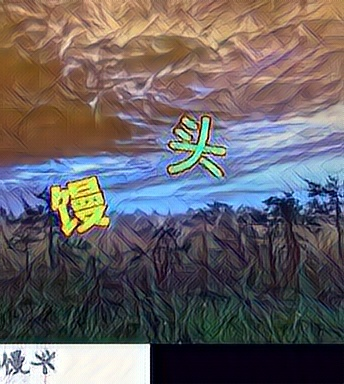C2F8: (50, 170, 111, 235)
CDB7: (166, 116, 227, 181)
